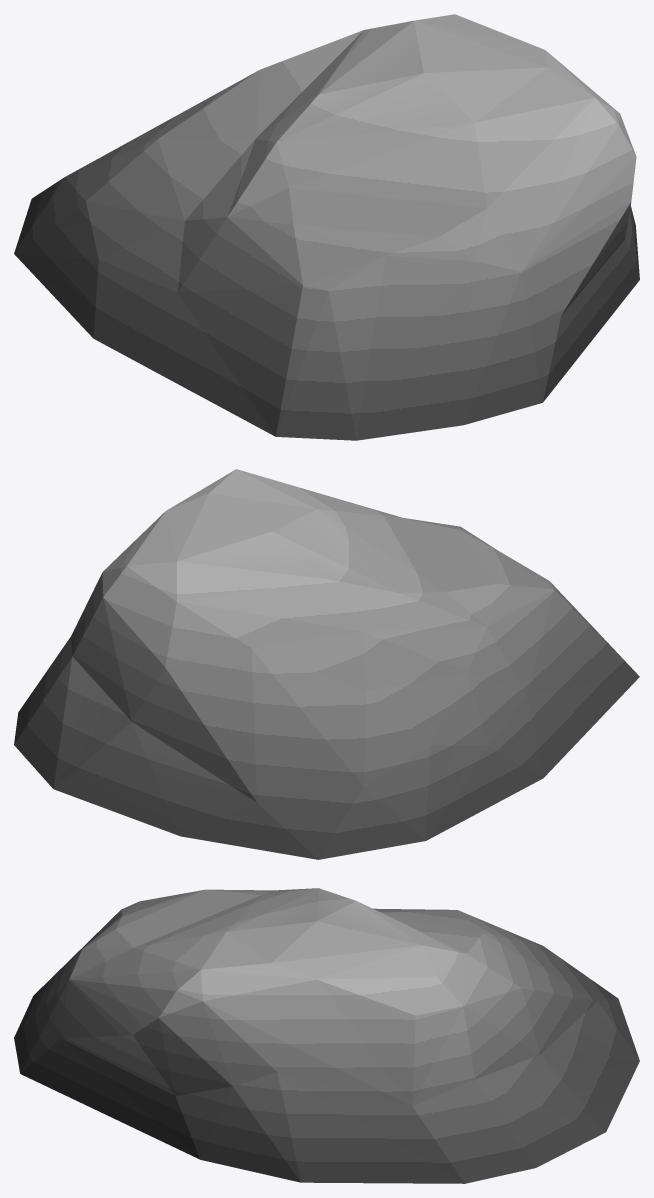
The model's file is Prefab_Rock_Chunk_A.glb.
3 renders of one model, top to bottom at view 1: azimuth 30°, elevation 25°; view 2: azimuth 150°, elevation 25°; view 3: azimuth 270°, elevation 25°, orthographic. The views are drawn at different scales.
Parts seen in each view (by area): view 1: Rock_Chunk_B; view 2: Rock_Chunk_B; view 3: Rock_Chunk_B.
Boxes of the visible parts, x1,y1,x2,y2 form: Rock_Chunk_B: (14,14,639,440); Rock_Chunk_B: (14,469,639,859); Rock_Chunk_B: (14,888,639,1183).
Size of the model in its own units: 3.83 by 1.37 by 4.45.
1 material, 1 textured.
